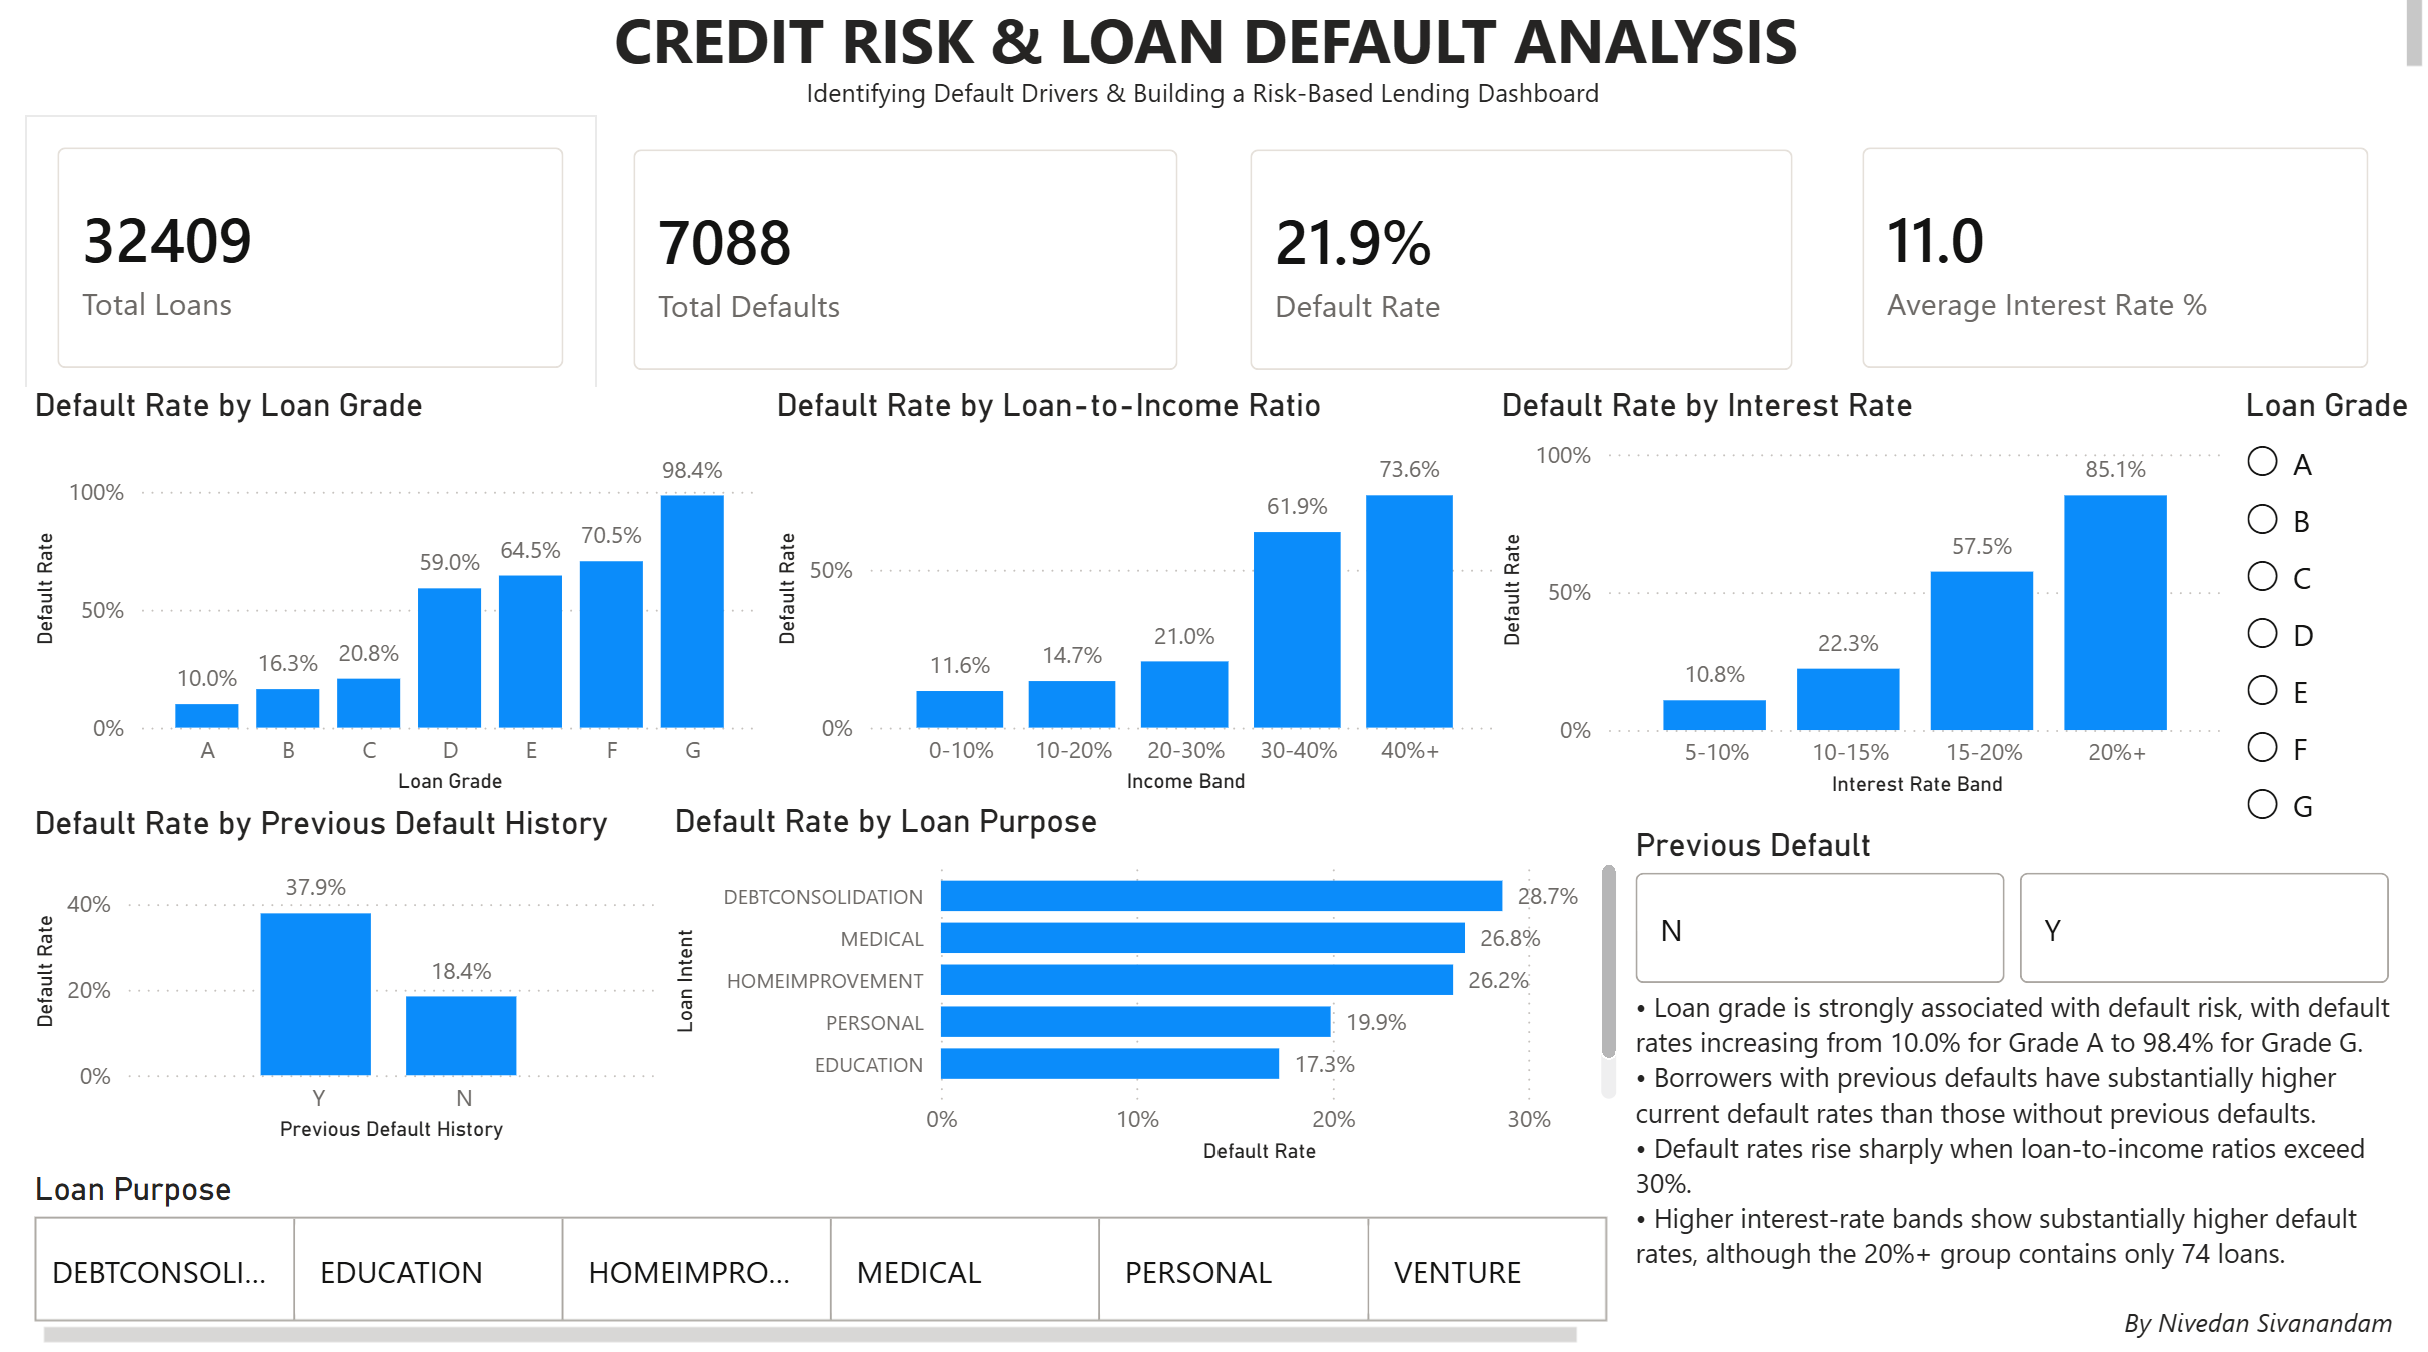

What the dashboard file says about the page in this screenshot:
{"tool":"powerbi","page":{"name":"Credit Risk Dashboard","canvas":[1280,720],"ordinal":0},"visuals":[{"type":"textbox","box":[0,0,1280,49.5],"z":0},{"type":"cardVisual","fields":{"Data":["credit_risk.Total Loans"]},"box":[15.6,66.8,300.5,150.3],"z":1000},{"type":"cardVisual","fields":{"Data":["credit_risk.Total Defaults"]},"box":[318.7,67.9,320.6,150.3],"z":2000},{"type":"cardVisual","fields":{"Data":["credit_risk.Default Rate"]},"box":[641.9,67.9,319.4,150.3],"z":3000},{"type":"cardVisual","fields":{"Data":["credit_risk.Average Interest Rate"]},"box":[963.9,66.8,300.5,150.3],"z":4000},{"type":"clusteredColumnChart","title":"Default Rate by Loan Grade","fields":{"Category":["credit_risk.loan_grade"],"Y":["credit_risk.Default Rate"]},"box":[15.3,210.4,390.1,218],"z":5000},{"type":"clusteredBarChart","title":"Default Rate by Loan Purpose","fields":{"Category":["credit_risk.loan_intent"],"Y":["credit_risk.Default Rate"]},"box":[351.9,428.4,504.9,219.3],"z":6000},{"type":"clusteredColumnChart","title":"Default Rate by Loan-to-Income Ratio","fields":{"Y":["credit_risk.Default Rate"],"Category":["credit_risk.Income Band"]},"box":[405.4,210.4,390.1,218],"z":7000},{"type":"clusteredColumnChart","title":"Default Rate by Interest Rate","fields":{"Y":["credit_risk.Default Rate"],"Category":["credit_risk.Interest Rate Band"]},"box":[786.6,210.4,390.1,219.3],"z":8000},{"type":"clusteredColumnChart","title":"Default Rate by Previous Default History","fields":{"Category":["credit_risk.cb_person_default_on_file"],"Y":["credit_risk.Default Rate"]},"box":[15.3,429.6,335.3,181],"z":9000},{"type":"textbox","box":[421.8,41.2,435.2,34.5],"z":9004},{"type":"advancedSlicerVisual","title":"Loan Purpose","fields":{"Values":["credit_risk.loan_intent"]},"box":[15.6,622.2,824.8,97.9],"z":9005},{"type":"listSlicer","title":"Loan Grade","fields":{"Values":["credit_risk.loan_grade"]},"box":[1176.7,210.4,103.3,239.7],"z":9007},{"type":"textbox","box":[856.7,521.4,408,182.3],"z":9008},{"type":"advancedSlicerVisual","title":"Previous Default","fields":{"Values":["credit_risk.cb_person_default_on_file"]},"box":[856.7,441.1,408,88],"z":9009},{"type":"textbox","box":[963.8,687.2,300.9,33.1],"z":9010}]}

Visuals, with their boxes in screenshot pixels (x1, y1, x2, y2), scaled from the page's 1280x720 canvas onto the 2428x1352 screenshot:
textbox: <region>0, 0, 2427, 93</region>
cardVisual - credit_risk.Total Loans: <region>30, 125, 600, 408</region>
cardVisual - credit_risk.Total Defaults: <region>605, 128, 1213, 410</region>
cardVisual - credit_risk.Default Rate: <region>1218, 128, 1823, 410</region>
cardVisual - credit_risk.Average Interest Rate: <region>1828, 125, 2398, 408</region>
"Default Rate by Loan Grade" clusteredColumnChart: <region>29, 395, 769, 804</region>
"Default Rate by Loan Purpose" clusteredBarChart: <region>668, 804, 1625, 1216</region>
"Default Rate by Loan-to-Income Ratio" clusteredColumnChart: <region>769, 395, 1509, 804</region>
"Default Rate by Interest Rate" clusteredColumnChart: <region>1492, 395, 2232, 807</region>
"Default Rate by Previous Default History" clusteredColumnChart: <region>29, 807, 665, 1147</region>
textbox: <region>800, 77, 1626, 142</region>
"Loan Purpose" advancedSlicerVisual: <region>30, 1168, 1594, 1351</region>
"Loan Grade" listSlicer: <region>2232, 395, 2427, 845</region>
textbox: <region>1625, 979, 2399, 1321</region>
"Previous Default" advancedSlicerVisual: <region>1625, 828, 2399, 994</region>
textbox: <region>1828, 1290, 2399, 1351</region>
